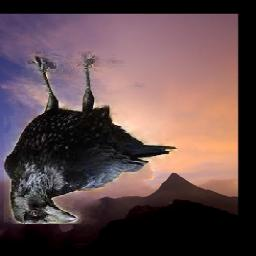Crow: (5, 52, 178, 225)
